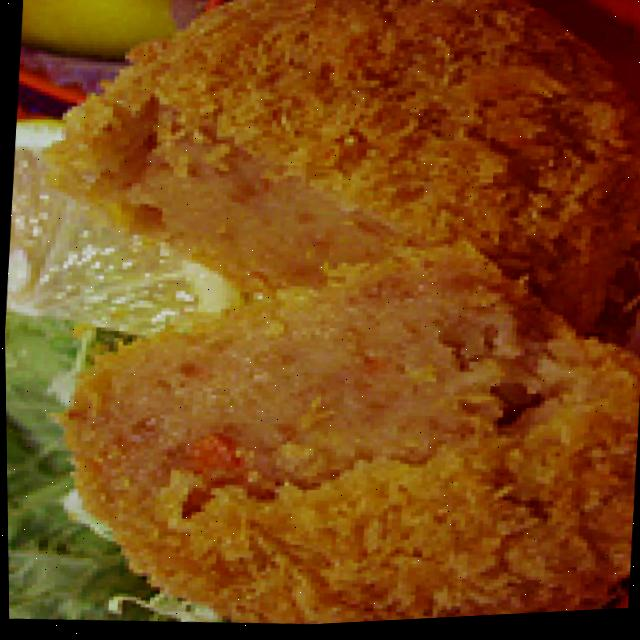炸货点心: (46, 0, 640, 638)
